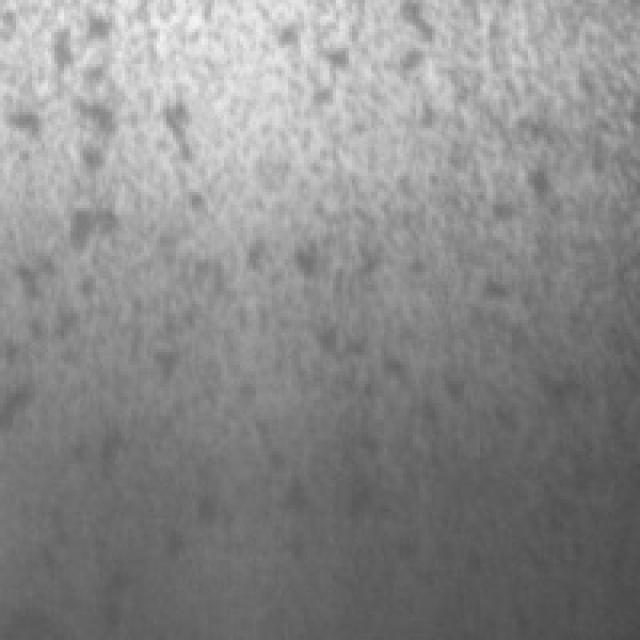pitted_surface: (154, 7, 636, 550), (9, 29, 284, 589)
